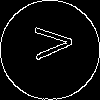V: (25, 25, 73, 61)
